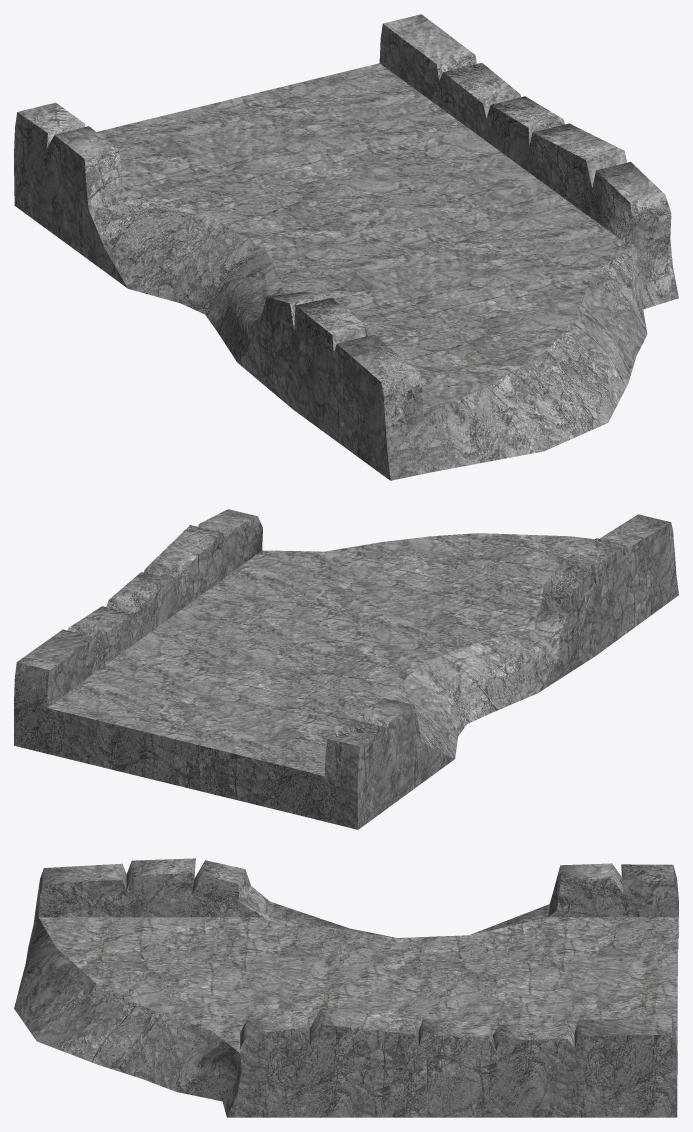
The model's file is materials_3_road_3.fbx.
3 views of the same model, one above another, from view 1: azimuth 30°, elevation 25°; view 2: azimuth 150°, elevation 25°; view 3: azimuth 270°, elevation 25° (orthographic). The views are drawn at different scales.
Parts seen in each view (by area): view 1: materials_3_road_3; view 2: materials_3_road_3; view 3: materials_3_road_3.
Boxes of the visible parts, x1=… form: materials_3_road_3: x1=14, y1=14, x2=678, y2=480; materials_3_road_3: x1=14, y1=509, x2=678, y2=829; materials_3_road_3: x1=14, y1=858, x2=678, y2=1117.
Bounding box in the file's own units: 235 × 59.61 × 386.
